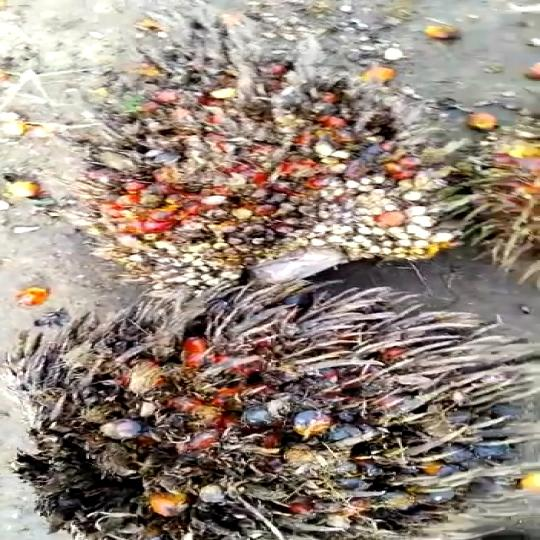terlalu masak: (0, 277, 540, 540), (39, 47, 446, 292)
